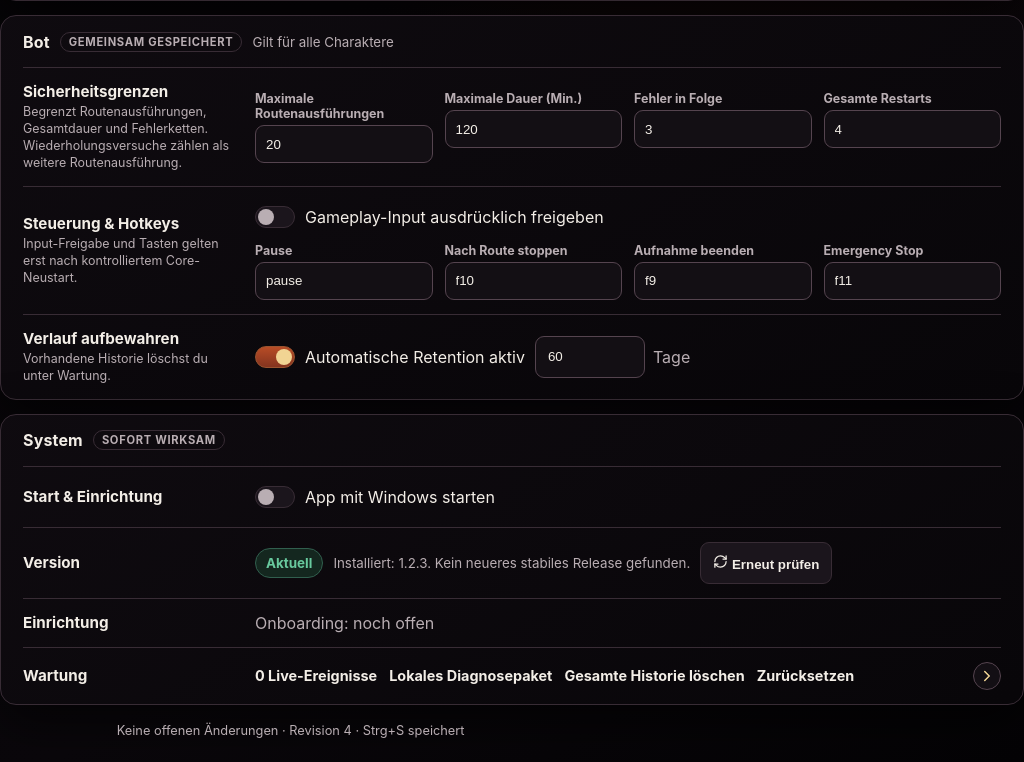
Test: SettingsFeature › öffnet nach dem Löschen erneut eine Vorschau mit null Dateien
This screenshot has width=1024, height=762.
(page scrolled)
Click the button "Wartung" at (512, 676), box [1,648,1023,704]
(page scrolled)
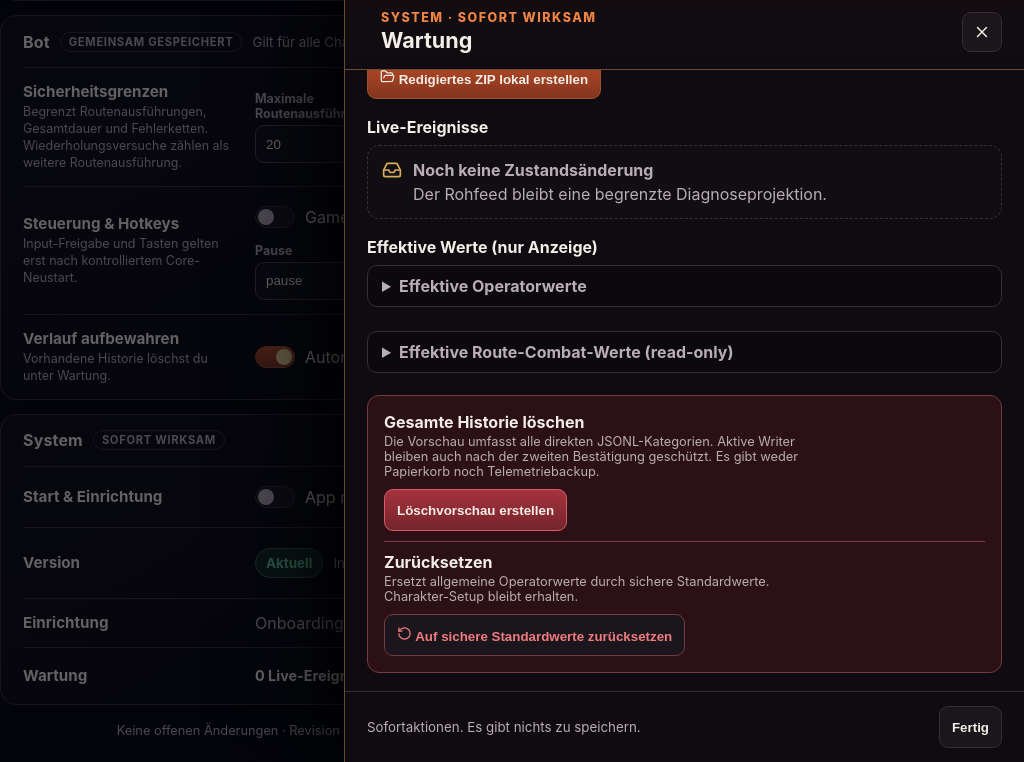
Click the button "Löschvorschau erstellen" at (476, 510), box [384,489,567,531]
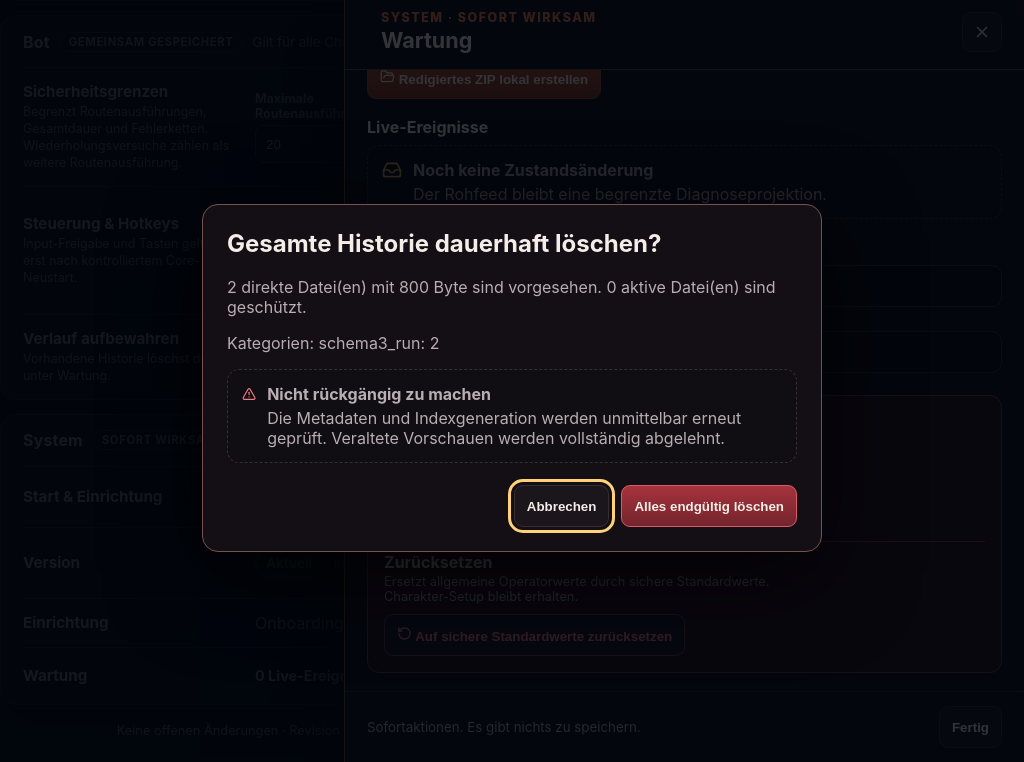
Result: the dialog "Gesamte Historie dauerhaft löschen?" shows "2 direkte Datei(en)" at [227,278,776,318]
Click the button "Alles endgültig löschen" at (709, 506), box [621,486,797,528]
(page scrolled)
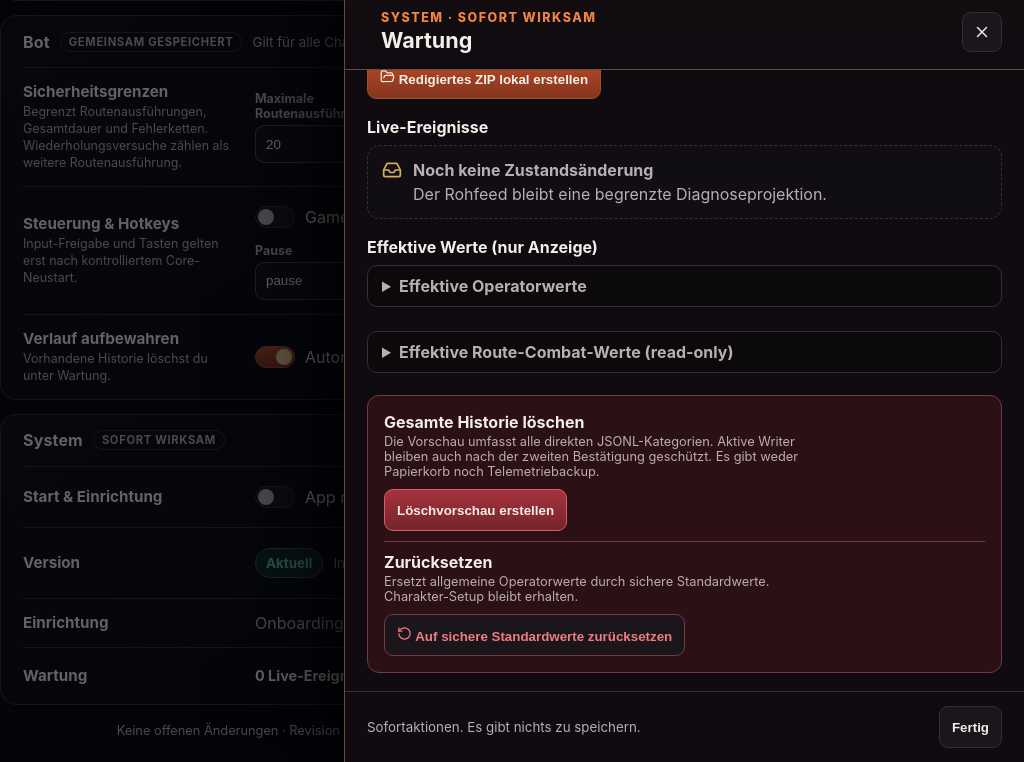
Click the button "Löschvorschau erstellen" at (476, 510), box [384,489,567,531]
(page scrolled)
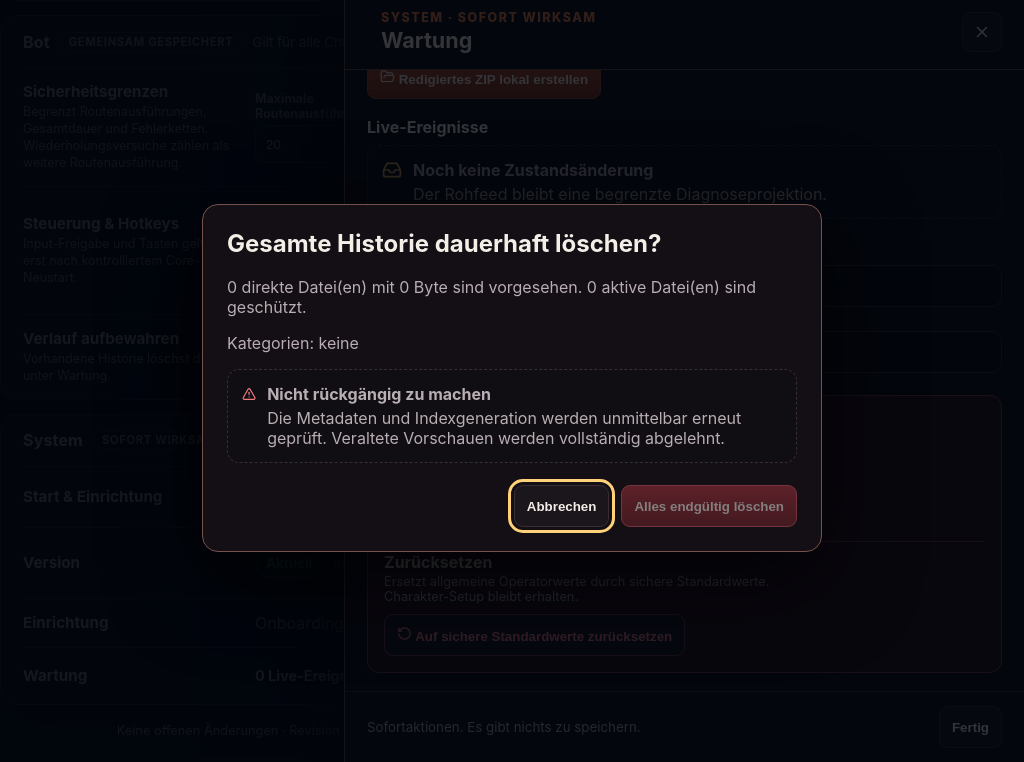
Result: the dialog "Gesamte Historie dauerhaft löschen?" shows "0 direkte Datei(en)" at [227,278,756,318]
Result: the button "Alles endgültig löschen" is disabled at [621,486,797,528]
